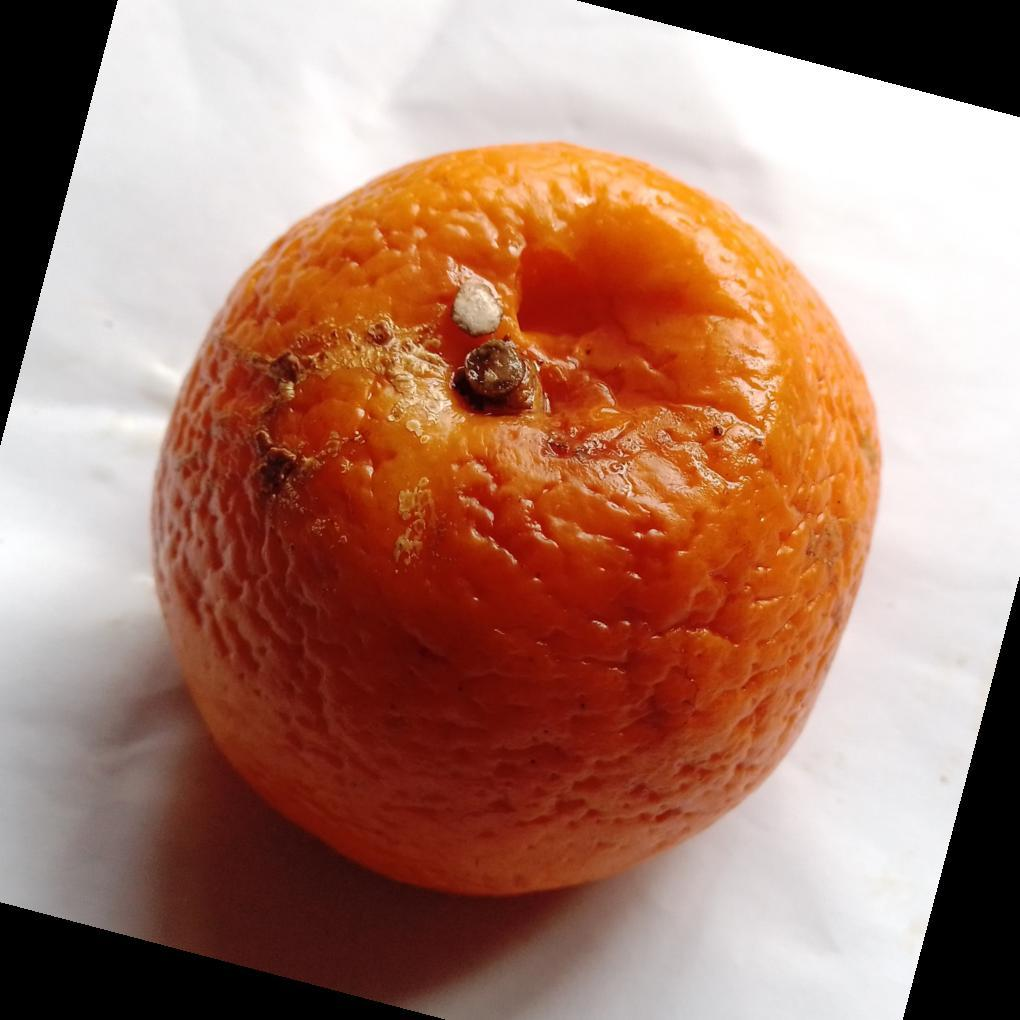FreshOrange: (148, 142, 884, 903)
